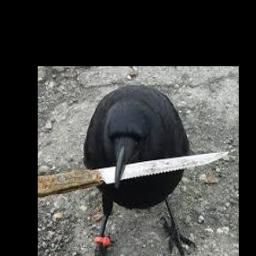Crow: (79, 84, 197, 256)
